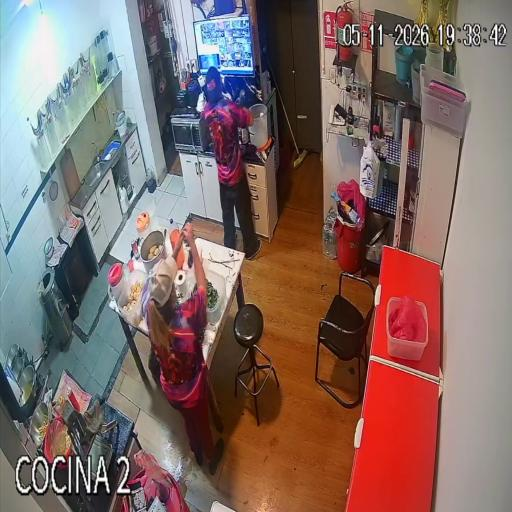Envase Ketchup: (66, 389, 79, 411)
Envase Llajua: (59, 395, 66, 406)
Jarra1: (108, 263, 125, 300)
Jarra2: (136, 211, 154, 244)
Microondas: (171, 110, 209, 152)
Persona1: (203, 67, 258, 257)
Persona2: (142, 224, 223, 474)
Tapa de olla: (43, 237, 54, 262)
Taper2: (207, 272, 226, 324)
Taper4: (116, 270, 149, 326)
olla: (139, 230, 166, 277)
